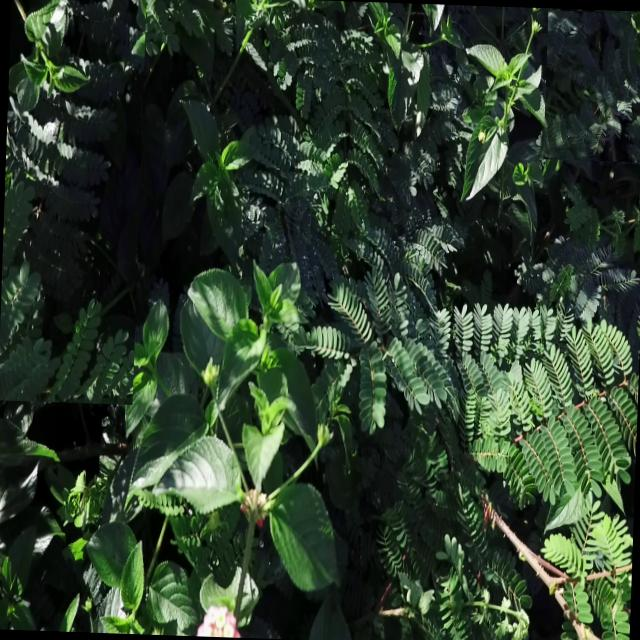Mysore-Thorn-Weed: (391, 227, 636, 640), (229, 0, 439, 356), (0, 0, 146, 404), (543, 9, 640, 162)
